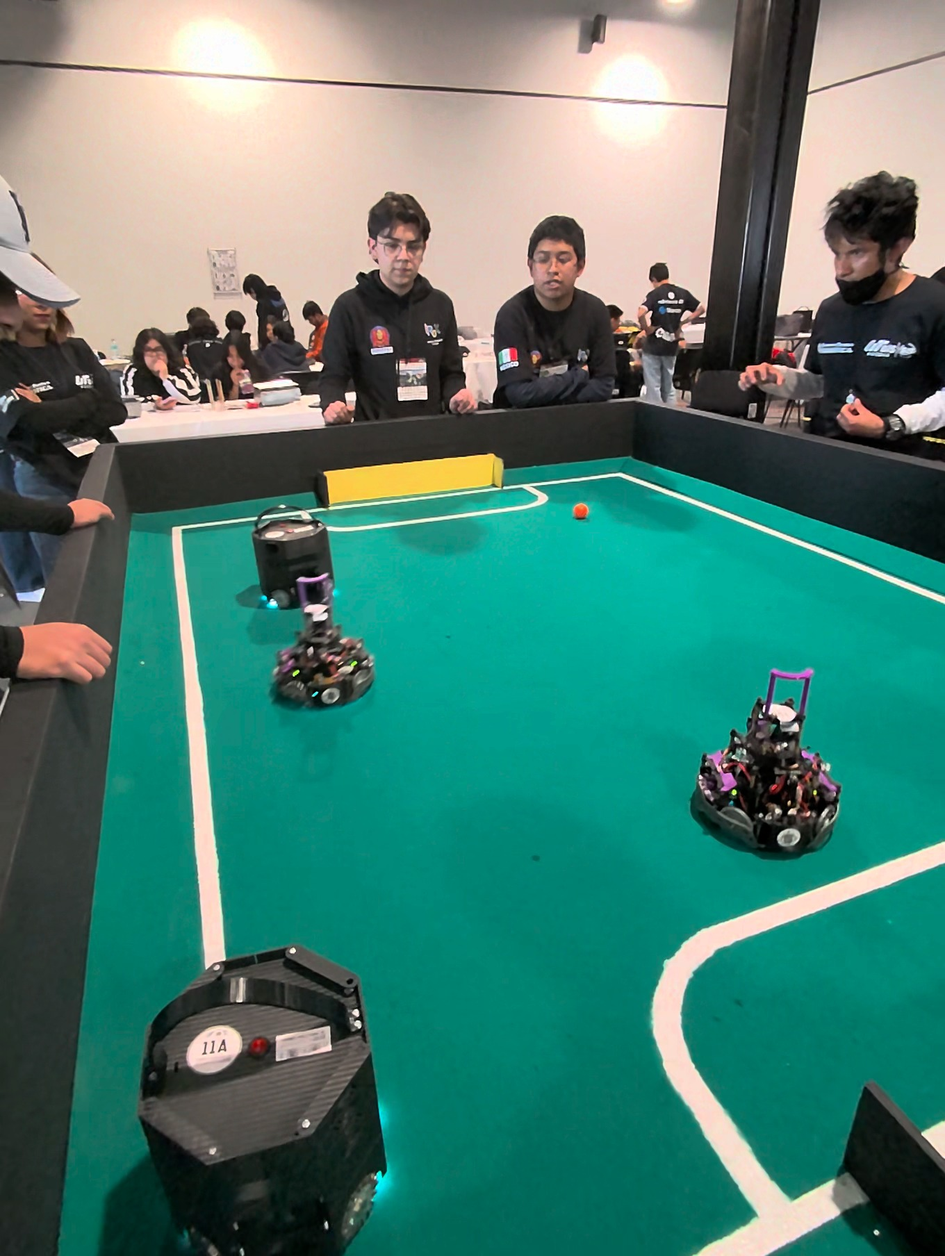Robot: (116, 922, 431, 1256), (692, 680, 842, 867), (253, 494, 342, 628), (272, 612, 377, 715)
pelota: (557, 499, 609, 528)
